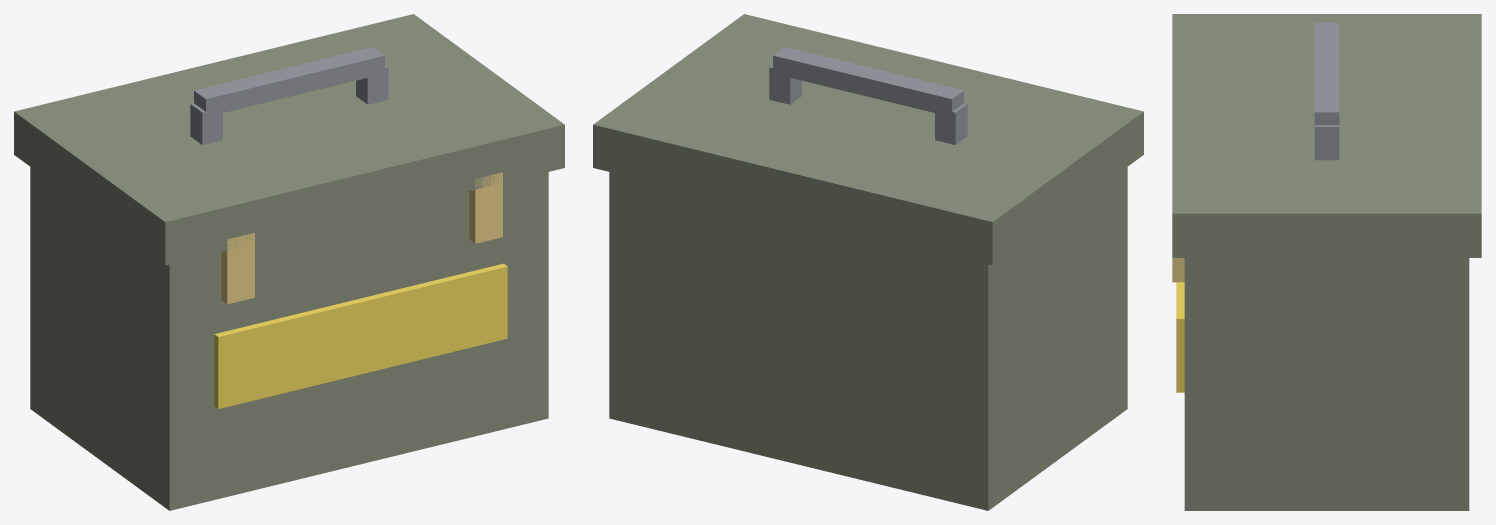
Rendered from caja_municion.glb.
3 renders of one model, left to right at view 1: azimuth 30°, elevation 25°; view 2: azimuth 150°, elevation 25°; view 3: azimuth 270°, elevation 25°, orthographic. The views are drawn at different scales.
Parts seen in each view (by area): view 1: caja_base, tapa, franja_amarilla, asa_barra, cierre_izq, cierre_der, asa_soporte_izq, asa_soporte_der; view 2: caja_base, tapa, asa_barra, asa_soporte_izq, asa_soporte_der; view 3: caja_base, tapa, asa_barra, franja_amarilla, asa_soporte_der.
Part boxes in pixels (bbox=[...]): caja_base: bbox=[30, 167, 548, 510]; tapa: bbox=[14, 14, 564, 265]; franja_amarilla: bbox=[214, 263, 507, 408]; asa_barra: bbox=[194, 47, 384, 116]; cierre_izq: bbox=[221, 233, 254, 304]; cierre_der: bbox=[469, 172, 502, 243]; asa_soporte_izq: bbox=[190, 103, 222, 144]; asa_soporte_der: bbox=[356, 65, 388, 104]; caja_base: bbox=[609, 167, 1127, 510]; tapa: bbox=[593, 14, 1143, 265]; asa_barra: bbox=[773, 47, 963, 116]; asa_soporte_izq: bbox=[935, 103, 967, 144]; asa_soporte_der: bbox=[769, 65, 801, 104]; caja_base: bbox=[1184, 258, 1469, 510]; tapa: bbox=[1172, 14, 1481, 257]; asa_barra: bbox=[1314, 23, 1339, 125]; franja_amarilla: bbox=[1176, 282, 1184, 392]; asa_soporte_der: bbox=[1314, 125, 1339, 160].
Size of the model in its own units: 0.58 by 0.4725 by 0.38.
